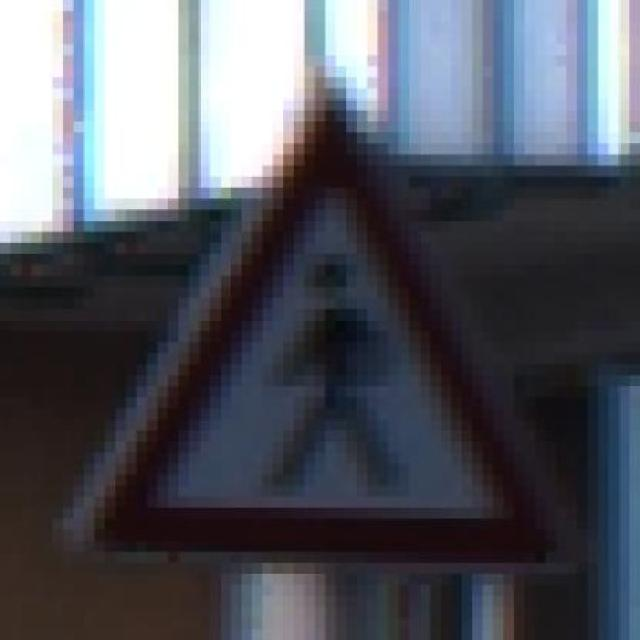Pedestrian Crossing: (63, 54, 577, 586)
